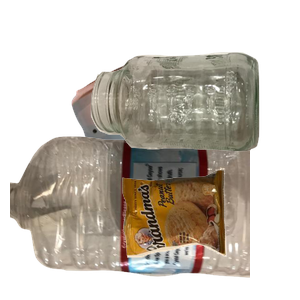glass: (88, 50, 300, 194)
metal: (69, 58, 300, 238)
plastic: (10, 134, 250, 300)
trash: (120, 168, 300, 300)
